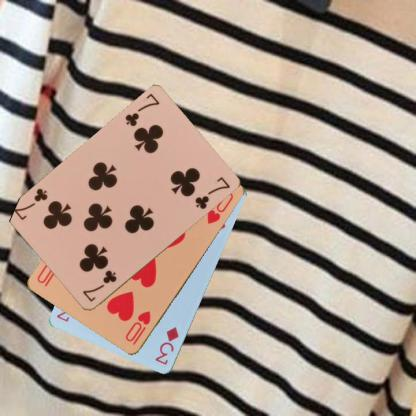10h: (122, 309, 152, 346)
3d: (153, 324, 180, 366)
7c: (122, 92, 161, 128), (80, 268, 118, 303)
